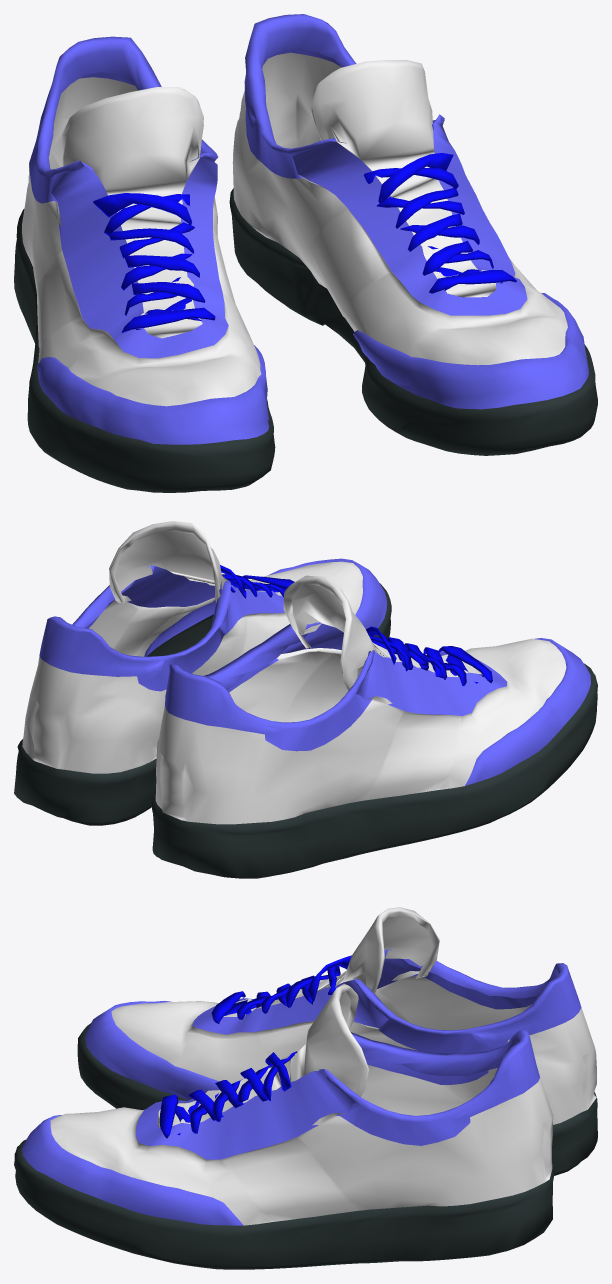
3 renders of one model, top to bottom at view 1: azimuth 30°, elevation 25°; view 2: azimuth 150°, elevation 25°; view 3: azimuth 270°, elevation 25°, orthographic. The views are drawn at different scales.
Visible parts, largest first — view 1: Mesh15 shoe02_1 skpFCDE1 Model, Mesh19 gold2 skpFCDE2 Model, Mesh32 shoe02_2 skpFCDE2 Model, Mesh2 gold1 skpFCDE1 Model, Mesh16 sole01_1 skpFCDE1 Model, Mesh34 tongue01_2 skpFCDE2 Model, Mesh33 sole01_2 skpFCDE2 Model, Mesh17 tongue01_1 skpFCDE1 Model, Mesh18 gold2 skpFCDE2 Model, Mesh1 gold1 skpFCDE1 Model, Mesh31 lace_end01_2 skpFCDE2 Model, Mesh14 lace_end01_1 skpFCDE1 Model (+10 smaller); view 2: Mesh32 shoe02_2 skpFCDE2 Model, Mesh33 sole01_2 skpFCDE2 Model, Mesh15 shoe02_1 skpFCDE1 Model, Mesh19 gold2 skpFCDE2 Model, Mesh2 gold1 skpFCDE1 Model, Mesh16 sole01_1 skpFCDE1 Model, Mesh17 tongue01_1 skpFCDE1 Model, Mesh34 tongue01_2 skpFCDE2 Model, Mesh18 gold2 skpFCDE2 Model, Mesh1 gold1 skpFCDE1 Model, Mesh21 lace_end01_2 skpFCDE2 Model; view 3: Mesh15 shoe02_1 skpFCDE1 Model, Mesh16 sole01_1 skpFCDE1 Model, Mesh2 gold1 skpFCDE1 Model, Mesh32 shoe02_2 skpFCDE2 Model, Mesh19 gold2 skpFCDE2 Model, Mesh1 gold1 skpFCDE1 Model, Mesh17 tongue01_1 skpFCDE1 Model, Mesh33 sole01_2 skpFCDE2 Model, Mesh34 tongue01_2 skpFCDE2 Model, Mesh18 gold2 skpFCDE2 Model, Mesh4 lace_end01_1 skpFCDE1 Model.
Part boxes in pixels (<box>): Mesh15 shoe02_1 skpFCDE1 Model: <box>232,52,567,365</box>; Mesh19 gold2 skpFCDE2 Model: <box>29,36,228,358</box>; Mesh32 shoe02_2 skpFCDE2 Model: <box>22,77,261,406</box>; Mesh2 gold1 skpFCDE1 Model: <box>244,14,527,315</box>; Mesh16 sole01_1 skpFCDE1 Model: <box>229,180,597,455</box>; Mesh34 tongue01_2 skpFCDE2 Model: <box>61,87,203,338</box>; Mesh33 sole01_2 skpFCDE2 Model: <box>14,209,275,492</box>; Mesh17 tongue01_1 skpFCDE1 Model: <box>311,60,496,297</box>; Mesh18 gold2 skpFCDE2 Model: <box>37,345,269,444</box>; Mesh1 gold1 skpFCDE1 Model: <box>353,293,588,409</box>; Mesh31 lace_end01_2 skpFCDE2 Model: <box>93,193,191,224</box>; Mesh14 lace_end01_1 skpFCDE1 Model: <box>378,153,453,202</box>; Mesh32 shoe02_2 skpFCDE2 Model: <box>155,638,566,824</box>; Mesh33 sole01_2 skpFCDE2 Model: <box>151,663,597,878</box>; Mesh15 shoe02_1 skpFCDE1 Model: <box>22,561,362,773</box>; Mesh19 gold2 skpFCDE2 Model: <box>165,622,507,751</box>; Mesh2 gold1 skpFCDE1 Model: <box>39,565,284,691</box>; Mesh16 sole01_1 skpFCDE1 Model: <box>14,583,391,825</box>; Mesh17 tongue01_1 skpFCDE1 Model: <box>109,521,281,602</box>; Mesh34 tongue01_2 skpFCDE2 Model: <box>283,575,481,690</box>; Mesh18 gold2 skpFCDE2 Model: <box>465,638,590,785</box>; Mesh1 gold1 skpFCDE1 Model: <box>144,558,386,656</box>; Mesh21 lace_end01_2 skpFCDE2 Model: <box>438,646,492,683</box>; Mesh15 shoe02_1 skpFCDE1 Model: <box>50,1065,553,1225</box>; Mesh16 sole01_1 skpFCDE1 Model: <box>14,1139,554,1269</box>; Mesh2 gold1 skpFCDE1 Model: <box>135,1027,539,1159</box>; Mesh32 shoe02_2 skpFCDE2 Model: <box>111,971,596,1124</box>; Mesh19 gold2 skpFCDE2 Model: <box>192,949,581,1053</box>; Mesh1 gold1 skpFCDE1 Model: <box>21,1115,243,1225</box>; Mesh17 tongue01_1 skpFCDE1 Model: <box>157,983,368,1127</box>; Mesh33 sole01_2 skpFCDE2 Model: <box>77,1023,597,1175</box>; Mesh34 tongue01_2 skpFCDE2 Model: <box>223,907,439,1016</box>; Mesh18 gold2 skpFCDE2 Model: <box>85,1001,219,1099</box>; Mesh4 lace_end01_1 skpFCDE1 Model: <box>159,1094,178,1138</box>.
Size of the model in its own units: 9.32 by 5.21 by 11.58.
